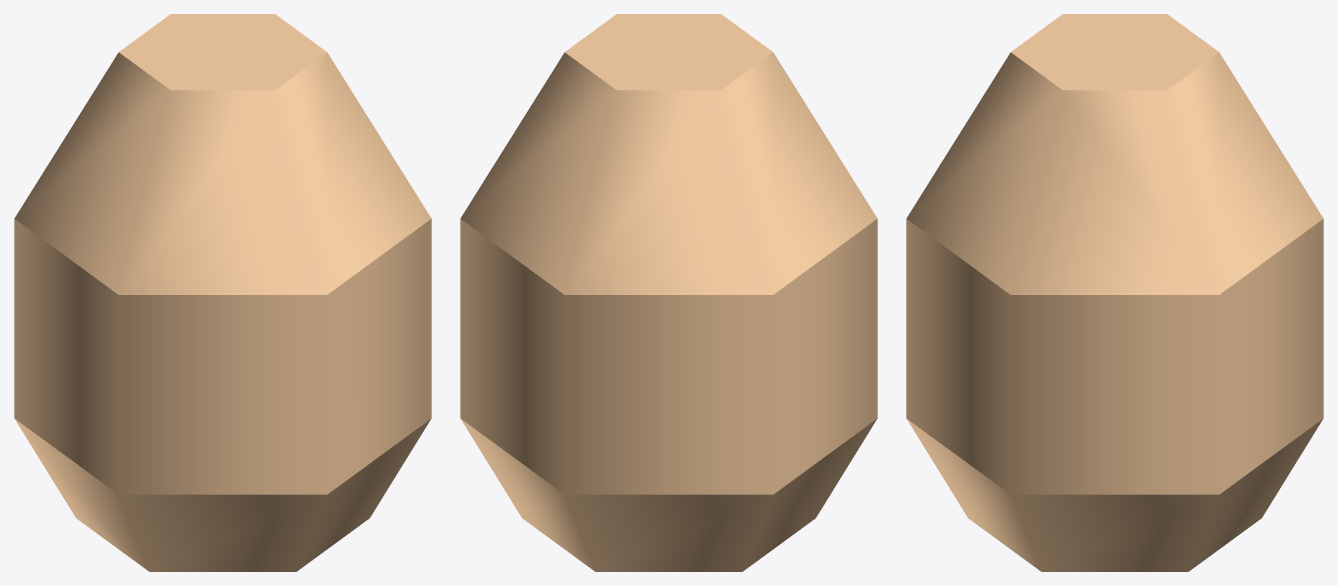
The model's file is egg.GLB.
3 renders of one model, left to right at view 1: azimuth 30°, elevation 25°; view 2: azimuth 150°, elevation 25°; view 3: azimuth 270°, elevation 25°, orthographic.
Visible parts, largest first — view 1: egg; view 2: egg; view 3: egg.
Part boxes in pixels (x1,y1,x2,y2): egg: [14, 14, 431, 571]; egg: [460, 14, 877, 571]; egg: [906, 14, 1323, 571].
Size of the model in its own units: 0.1161 by 0.1652 by 0.134.
